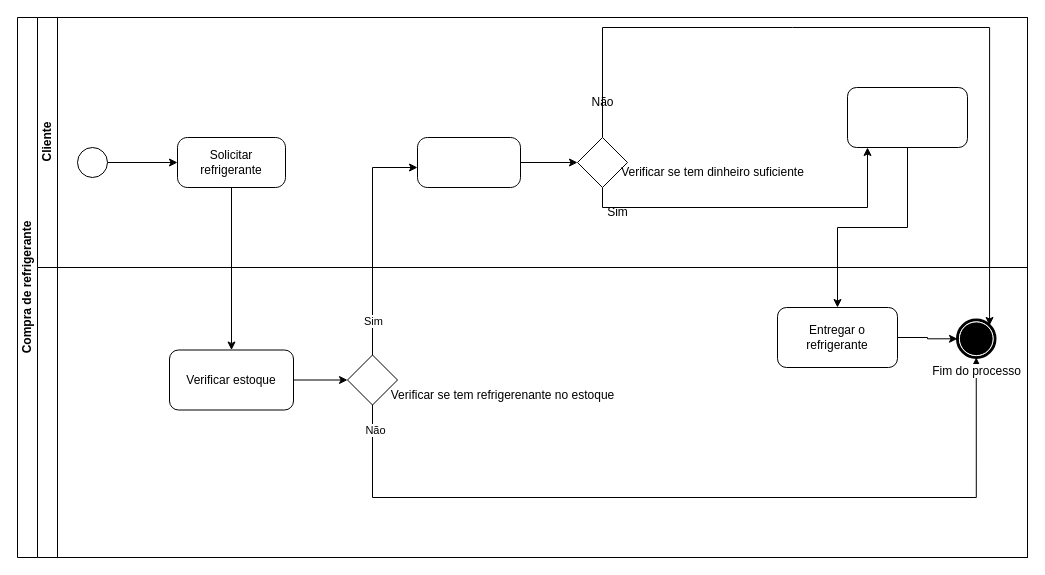
Image size: 1045x575. Some labels were removed from this diagram. The box of each missing label's shape, as (x1, y1, x2, y2) in pixels:
Atendente: (36, 266, 1028, 558)
Pagar o refrigerante: (846, 86, 968, 148)
Verificar dinheiro: (416, 136, 520, 188)
